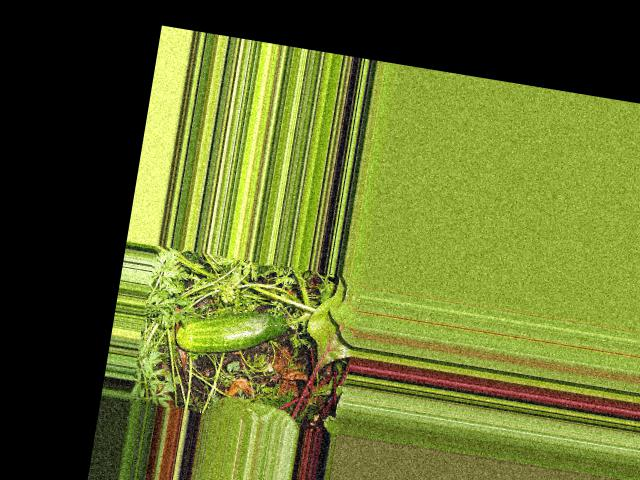cucumber: (175, 296, 291, 366)
